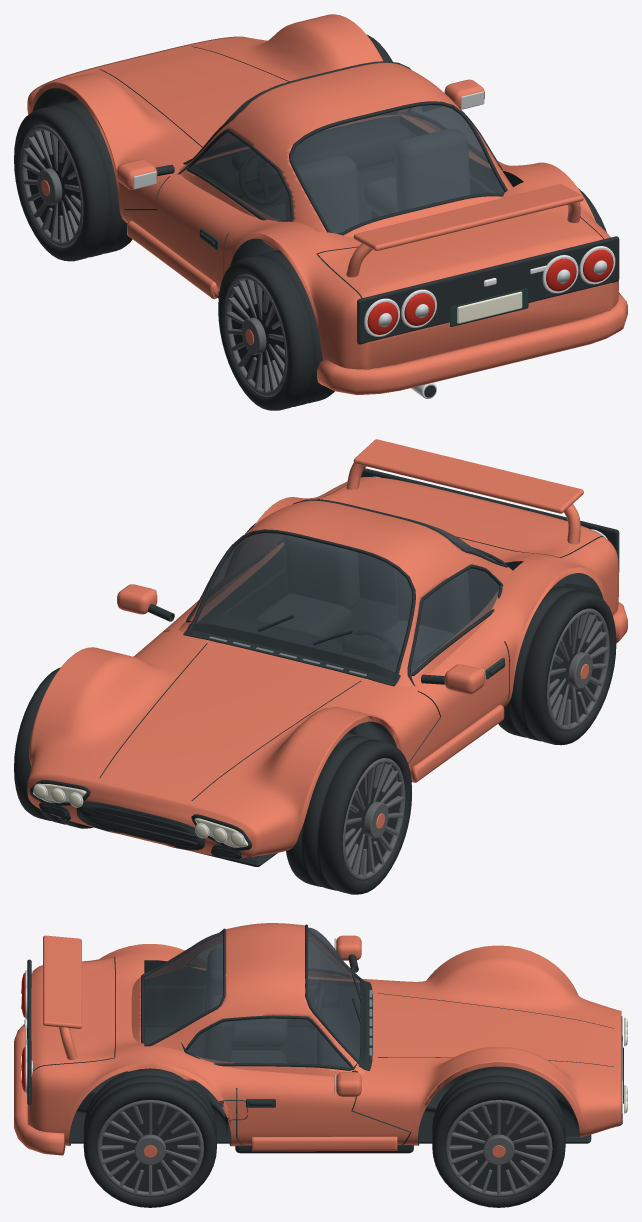
Rendered from hoshi.fbx.
3 views of the same model, one above another, from view 1: azimuth 30°, elevation 25°; view 2: azimuth 150°, elevation 25°; view 3: azimuth 270°, elevation 25° (orthographic). The views are drawn at different scales.
Visible parts, largest first — view 1: Body, Wheel_FL_Mesh, Wheel_RL_Mesh; view 2: Body, Wheel_FL_Mesh, Wheel_RL_Mesh, Wheel_FR_Mesh; view 3: Body, Wheel_FR_Mesh, Wheel_RR_Mesh.
Part boxes in pixels (x1,y1,x2,y2): Body: (27, 14, 627, 398); Wheel_FL_Mesh: (14, 99, 132, 261); Wheel_RL_Mesh: (218, 250, 334, 410); Body: (27, 439, 627, 866); Wheel_FL_Mesh: (286, 733, 411, 894); Wheel_RL_Mesh: (498, 584, 616, 745); Wheel_FR_Mesh: (14, 667, 92, 828); Body: (14, 923, 627, 1155); Wheel_FR_Mesh: (432, 1068, 565, 1207); Wheel_RR_Mesh: (83, 1068, 216, 1207).
Bounding box in the file's own units: 233 × 143 × 405.
